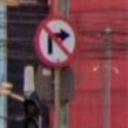NoVirarDireita: (32, 14, 81, 70)
